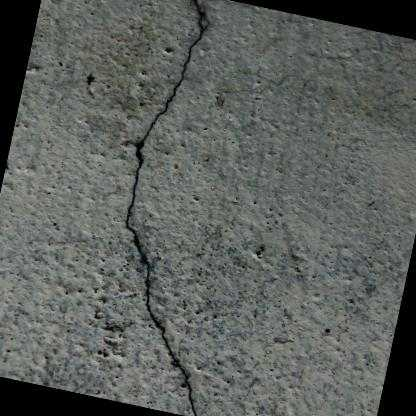crack: (125, 0, 203, 416)
